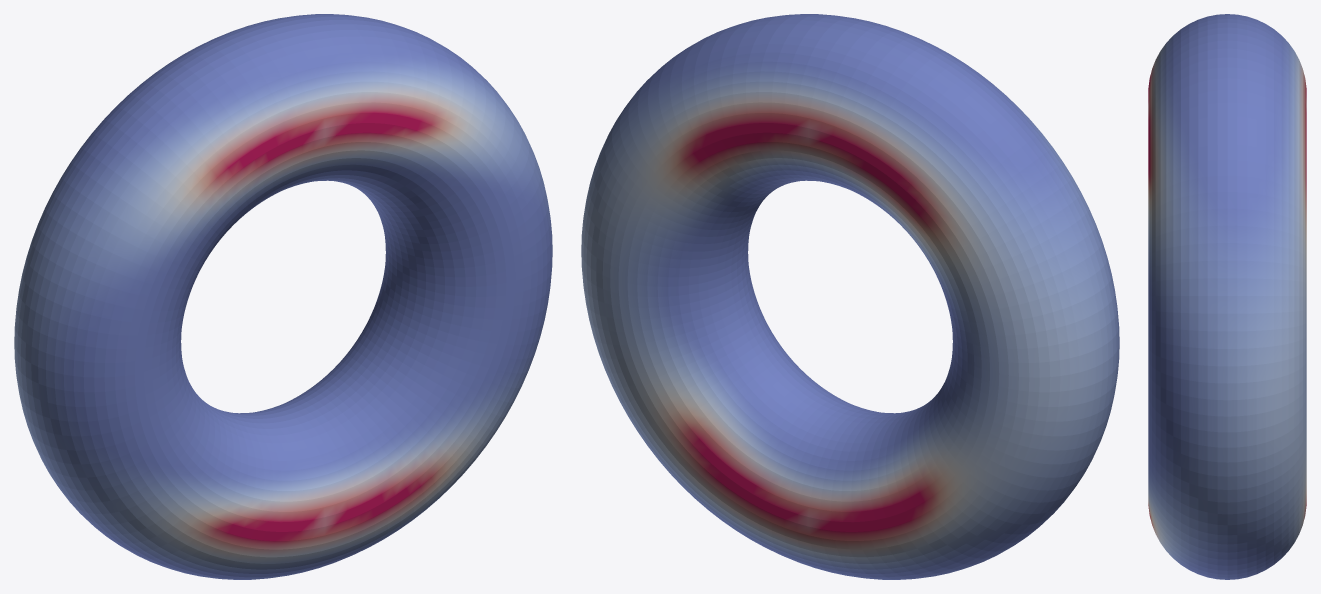
The picture shows the model from 3 angles, left to right: view 1: azimuth 30°, elevation 25°; view 2: azimuth 150°, elevation 25°; view 3: azimuth 270°, elevation 25°; orthographic projection. The views are drawn at different scales.
Visible parts, largest first — view 1: world; view 2: world; view 3: world.
Boxes of the visible parts, bbox=[...] form: world: bbox=[14, 14, 552, 579]; world: bbox=[581, 14, 1119, 579]; world: bbox=[1148, 14, 1306, 579].
Bounding box in the file's own units: 16.67 × 16.67 × 4.66.
